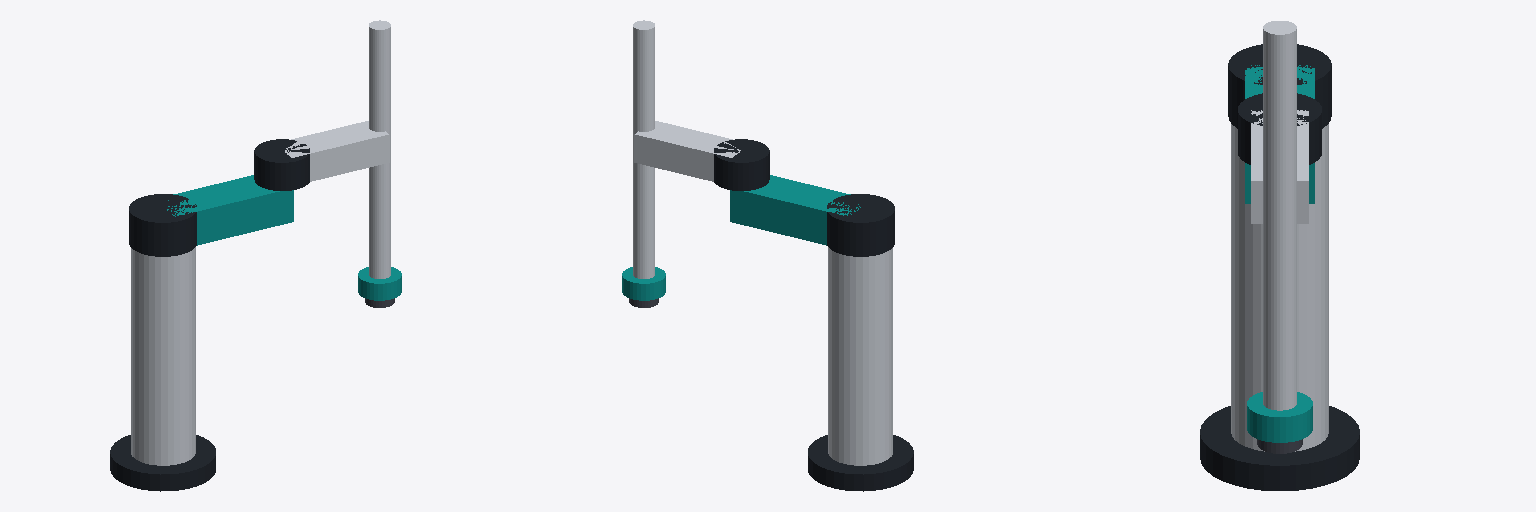
robot.urdf — scara4:
<?xml version="1.0"?>
<!--
  scara4.urdf — robot-sim-web SCARA 4-DOF 로봇 + 흡착(진공) 그리퍼
  프리미티브 지오메트리만 사용 (외부 메시 파일 불필요 — 정적 호스팅 친화).
  URDF 표준 관례상 Z-up이며, 로딩 시 scene-loader가 Y-up으로 축 변환한다 (CLAUDE.md §4).
  단위: 미터, 라디안.

  ── 구조 (SCARA의 정체성: 수평면 회전 + 수직 직동) ────────────────────
    base_link(기둥) ─J1(회전 Z)─ link1(상완, 0.22m) ─J2(회전 Z)─ link2(전완, 0.18m)
                    ─J3(직동, 수직)─ link3(볼스크류 스플라인 축)
                    ─J4(회전 Z, 손목)─ link4(흡착 헤드) ─흡착─ suction_pad

  arm6(6축 관절팔)와 달리 J1·J2·J4가 전부 수직축 회전이라 말단 자세가 항상 아래를
  향한다. 픽앤플레이스 평면 작업에 특화된 대신 자세를 기울일 수 없다.

  ── 좌표/치수 요약 (전 관절 0일 때, URDF Z-up 기준) ──────────────────
    작업면(전완 상단) z = 0.51 / 최대 수평 도달 반경 = 0.22 + 0.18 = 0.40 m
    J3 스트로크 0 → 0.18 m (아래로 +). 패드 하단 z: 0.202(수축) → 0.022(최하강)
-->
<robot name="scara4">

  <material name="scara_body">
    <color rgba="0.83 0.85 0.88 1.0"/>
  </material>
  <material name="scara_accent">
    <color rgba="0.09 0.62 0.61 1.0"/>
  </material>
  <material name="scara_dark">
    <color rgba="0.16 0.18 0.21 1.0"/>
  </material>
  <material name="suction_rubber">
    <color rgba="0.30 0.31 0.35 1.0"/>
  </material>

  <!-- ── 베이스: 받침 + 수직 기둥 (기둥 상단 z = 0.40) ──────────────── -->
  <link name="base_link">
    <visual>
      <origin xyz="0 0 0.015" rpy="0 0 0"/>
      <geometry><cylinder radius="0.085" length="0.03"/></geometry>
      <material name="scara_dark"/>
    </visual>
    <visual>
      <origin xyz="0 0 0.215" rpy="0 0 0"/>
      <geometry><cylinder radius="0.052" length="0.37"/></geometry>
      <material name="scara_body"/>
    </visual>
    <collision>
      <origin xyz="0 0 0.015" rpy="0 0 0"/>
      <geometry><cylinder radius="0.085" length="0.03"/></geometry>
    </collision>
    <collision>
      <origin xyz="0 0 0.215" rpy="0 0 0"/>
      <geometry><cylinder radius="0.052" length="0.37"/></geometry>
    </collision>
    <inertial>
      <mass value="2.5"/>
      <inertia ixx="0.03" iyy="0.03" izz="0.01" ixy="0" ixz="0" iyz="0"/>
    </inertial>
  </link>

  <!-- ── J1: 어깨 회전 (수직축) ────────────────────────────────────── -->
  <joint name="joint1" type="revolute">
    <parent link="base_link"/>
    <child link="link1"/>
    <origin xyz="0 0 0.40" rpy="0 0 0"/>
    <axis xyz="0 0 1"/>
    <limit lower="-2.6" upper="2.6" effort="60" velocity="6.0"/>
  </joint>
  <link name="link1">
    <visual>
      <origin xyz="0 0 0.03" rpy="0 0 0"/>
      <geometry><cylinder radius="0.055" length="0.06"/></geometry>
      <material name="scara_dark"/>
    </visual>
    <visual>
      <origin xyz="0.11 0 0.03" rpy="0 0 0"/>
      <geometry><box size="0.22 0.075 0.06"/></geometry>
      <material name="scara_accent"/>
    </visual>
    <collision>
      <origin xyz="0 0 0.03" rpy="0 0 0"/>
      <geometry><cylinder radius="0.055" length="0.06"/></geometry>
    </collision>
    <collision>
      <origin xyz="0.11 0 0.03" rpy="0 0 0"/>
      <geometry><box size="0.22 0.075 0.06"/></geometry>
    </collision>
    <inertial>
      <mass value="1.2"/>
      <inertia ixx="0.004" iyy="0.008" izz="0.008" ixy="0" ixz="0" iyz="0"/>
    </inertial>
  </link>

  <!-- ── J2: 팔꿈치 회전 (수직축) ──────────────────────────────────── -->
  <joint name="joint2" type="revolute">
    <parent link="link1"/>
    <child link="link2"/>
    <origin xyz="0.22 0 0.06" rpy="0 0 0"/>
    <axis xyz="0 0 1"/>
    <limit lower="-2.64" upper="2.64" effort="40" velocity="6.0"/>
  </joint>
  <link name="link2">
    <visual>
      <origin xyz="0 0 0.025" rpy="0 0 0"/>
      <geometry><cylinder radius="0.045" length="0.05"/></geometry>
      <material name="scara_dark"/>
    </visual>
    <visual>
      <origin xyz="0.09 0 0.025" rpy="0 0 0"/>
      <geometry><box size="0.18 0.062 0.05"/></geometry>
      <material name="scara_body"/>
    </visual>
    <collision>
      <origin xyz="0 0 0.025" rpy="0 0 0"/>
      <geometry><cylinder radius="0.045" length="0.05"/></geometry>
    </collision>
    <collision>
      <origin xyz="0.09 0 0.025" rpy="0 0 0"/>
      <geometry><box size="0.18 0.062 0.05"/></geometry>
    </collision>
    <inertial>
      <mass value="0.8"/>
      <inertia ixx="0.002" iyy="0.004" izz="0.004" ixy="0" ixz="0" iyz="0"/>
    </inertial>
  </link>

  <!-- ── J3: 수직 직동 (볼스크류 스플라인 축) ──────────────────────────
       axis = (0,0,-1)이라 **관절값이 곧 하강 깊이(m)**다: 0 = 최상단(수축),
       0.18 = 최하단. 부호가 뒤집힌 상한(-0.18..0)보다 시퀀스에서 읽기 쉽다.
       축 시각 길이 0.44는 스트로크 0.18 + 하부 0.26이라, 완전 하강해도 전완과
       축이 끊겨 보이지 않는다(실기의 스플라인 축이 위로 솟는 모습 그대로). -->
  <joint name="joint3" type="prismatic">
    <parent link="link2"/>
    <child link="link3"/>
    <origin xyz="0.18 0 0.05" rpy="0 0 0"/>
    <axis xyz="0 0 -1"/>
    <limit lower="0.0" upper="0.18" effort="80" velocity="0.6"/>
  </joint>
  <link name="link3">
    <visual>
      <origin xyz="0 0 -0.04" rpy="0 0 0"/>
      <geometry><cylinder radius="0.018" length="0.44"/></geometry>
      <material name="scara_body"/>
    </visual>
    <collision>
      <origin xyz="0 0 -0.04" rpy="0 0 0"/>
      <geometry><cylinder radius="0.018" length="0.44"/></geometry>
    </collision>
    <inertial>
      <mass value="0.5"/>
      <inertia ixx="0.008" iyy="0.008" izz="0.0002" ixy="0" ixz="0" iyz="0"/>
    </inertial>
  </link>

  <!-- ── J4: 손목 회전 (수직축) ────────────────────────────────────── -->
  <joint name="joint4" type="revolute">
    <parent link="link3"/>
    <child link="link4"/>
    <origin xyz="0 0 -0.26" rpy="0 0 0"/>
    <axis xyz="0 0 1"/>
    <limit lower="-3.1416" upper="3.1416" effort="15" velocity="8.0"/>
  </joint>
  <link name="link4">
    <visual>
      <origin xyz="0 0 -0.015" rpy="0 0 0"/>
      <geometry><cylinder radius="0.035" length="0.03"/></geometry>
      <material name="scara_accent"/>
    </visual>
    <collision>
      <origin xyz="0 0 -0.015" rpy="0 0 0"/>
      <geometry><cylinder radius="0.035" length="0.03"/></geometry>
    </collision>
    <inertial>
      <mass value="0.25"/>
      <inertia ixx="0.0004" iyy="0.0004" izz="0.0002" ixy="0" ixz="0" iyz="0"/>
    </inertial>
  </link>

  <!-- ── 흡착 그리퍼: 프리즘 조인트 1개 ────────────────────────────────
       평행 손가락 2개 대신 **패드 1개가 내려가 밀착**하는 축으로 표현한다.
       값 0.0 = 떨어짐(open), 0.012 = 밀착(close) — 프로젝트의 gripper step은
       RobotSpec.gripper = {joints, open, close}로 관절값을 구동하므로, 흡착도
       관절 1개로 두면 기존 step/플레이어를 그대로 쓴다 (DATA_MODEL §4.1). -->
  <joint name="suction_joint" type="prismatic">
    <parent link="link4"/>
    <child link="suction_pad"/>
    <origin xyz="0 0 -0.03" rpy="0 0 0"/>
    <axis xyz="0 0 -1"/>
    <limit lower="0.0" upper="0.012" effort="20" velocity="0.05"/>
  </joint>
  <link name="suction_pad">
    <visual>
      <origin xyz="0 0 -0.009" rpy="0 0 0"/>
      <geometry><cylinder radius="0.024" length="0.018"/></geometry>
      <material name="suction_rubber"/>
    </visual>
    <collision>
      <origin xyz="0 0 -0.009" rpy="0 0 0"/>
      <geometry><cylinder radius="0.024" length="0.018"/></geometry>
    </collision>
    <inertial>
      <mass value="0.05"/>
      <inertia ixx="0.0001" iyy="0.0001" izz="0.0001" ixy="0" ixz="0" iyz="0"/>
    </inertial>
  </link>

</robot>

--- Render facts (derived) ---
3 views of the same robot in one strip: view 1: azimuth 30°, elevation 25°; view 2: azimuth 150°, elevation 25°; view 3: azimuth 270°, elevation 25° (orthographic).
Model scara4 with 6 links and 5 joints (3 revolute, 2 prismatic), rooted at base_link, posed every joint at zero.
Links seen in each view (by area): view 1: base_link, link1, link2, link3, link4; view 2: base_link, link1, link2, link3, link4; view 3: base_link, link3, link2, link1, link4.
Boxes of the visible links, box(x1,y1,x2,y2) form: base_link: box(110, 247, 215, 491); link1: box(129, 175, 293, 256); link2: box(254, 121, 389, 190); link3: box(369, 20, 390, 278); link4: box(358, 267, 401, 300); base_link: box(808, 247, 913, 491); link1: box(730, 175, 894, 256); link2: box(634, 121, 769, 190); link3: box(633, 20, 654, 278); link4: box(622, 267, 665, 300); base_link: box(1200, 124, 1359, 490); link3: box(1263, 21, 1296, 410); link2: box(1238, 93, 1321, 223); link1: box(1228, 44, 1331, 203); link4: box(1247, 392, 1312, 442).
Size in the robot's own frame: 0.52 by 0.17 by 0.69 metres.
Geometry: primitives only (box / cylinder / sphere), no mesh files.
